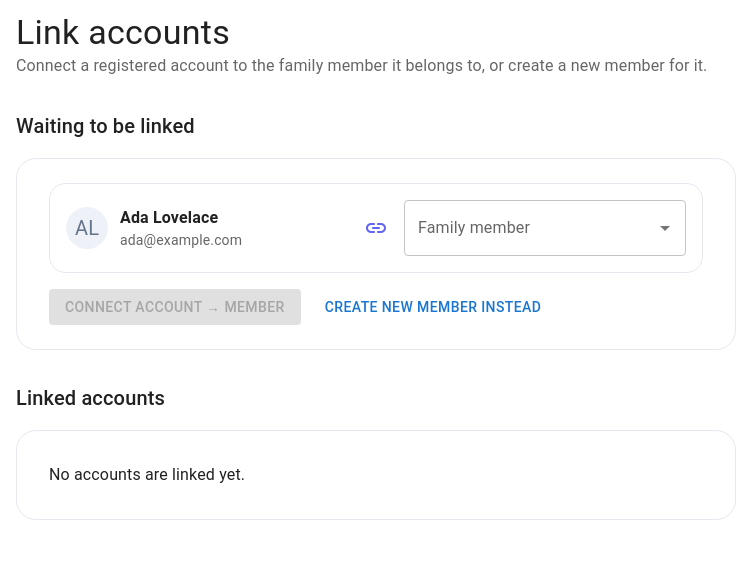
Scenario: LinkAccountsPage › links an existing member via the Autocomplete and removes the row
The width and height of the screenshot is (753, 581).
Expected: the text "ada@example.com" is shown, top-left (120, 230), bottom-right (242, 250)
Step 1. Type "John" into the dropdown labelled "Family member" → [530, 228], box top-left (413, 209), bottom-right (647, 247)
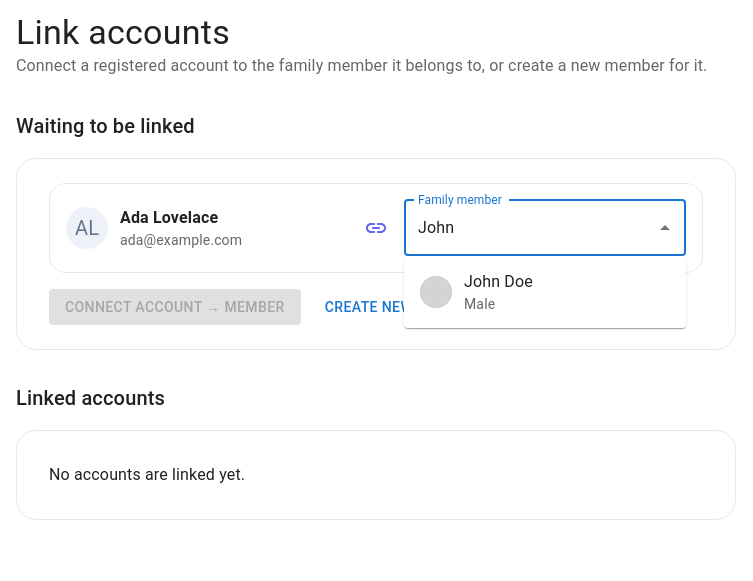
Step 2. Click the option "John Doe Male" → [476, 292], box top-left (420, 272), bottom-right (533, 312)
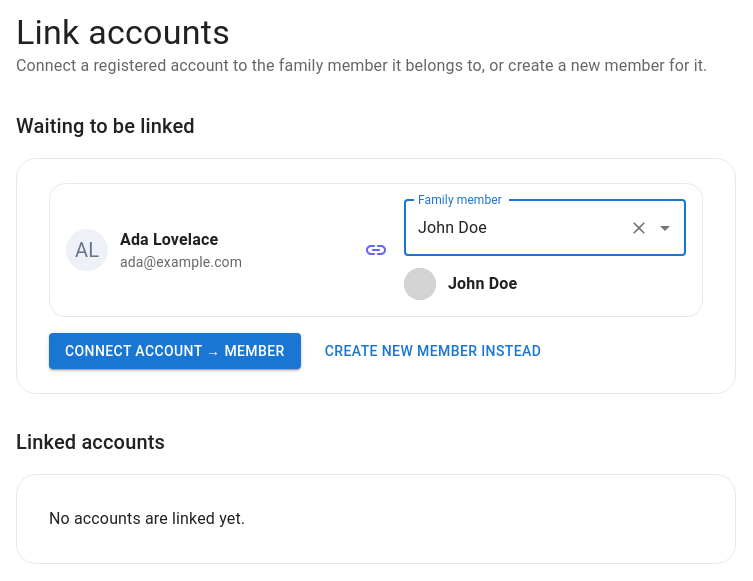
Step 3. Click the button "Connect account → member" → [175, 351], box top-left (49, 333), bottom-right (301, 370)
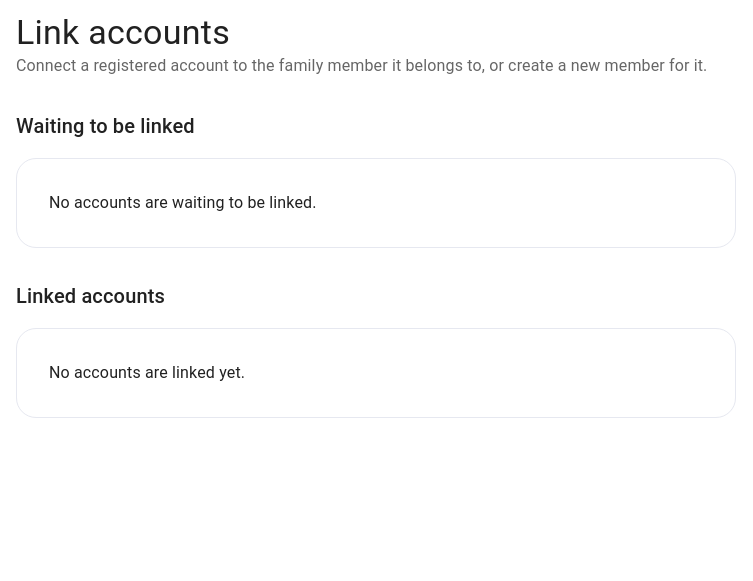
Now the text "ada@example.com" is gone
